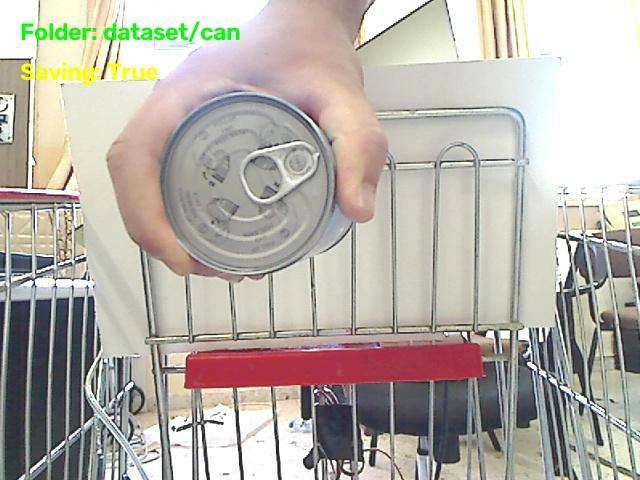can: (161, 93, 351, 274)
